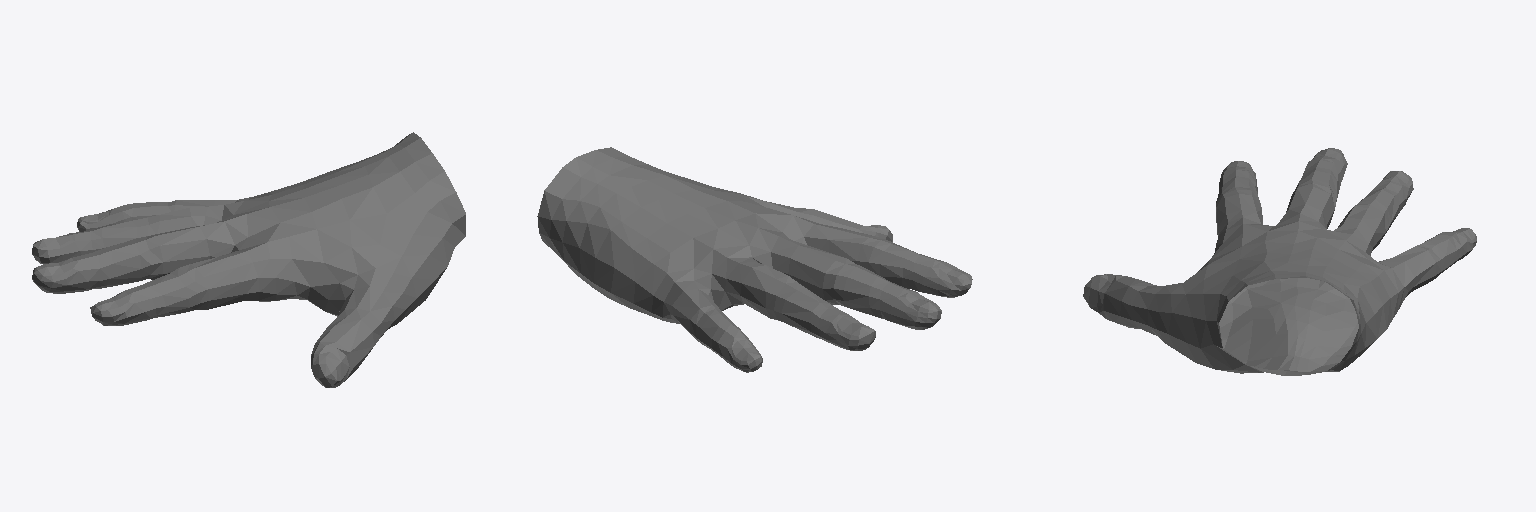
File: hand.obj
3 views of the same model, side by side, from view 1: azimuth 30°, elevation 25°; view 2: azimuth 150°, elevation 25°; view 3: azimuth 270°, elevation 25° (orthographic).
Parts seen in each view (by area): view 1: Mesh; view 2: Mesh; view 3: Mesh.
Part boxes in pixels (x1,y1,x2,y2): Mesh: (32,132,465,387); Mesh: (537,147,972,372); Mesh: (1083,148,1476,375).
Bounding box in the file's own units: 0.193 × 0.0613 × 0.1677.